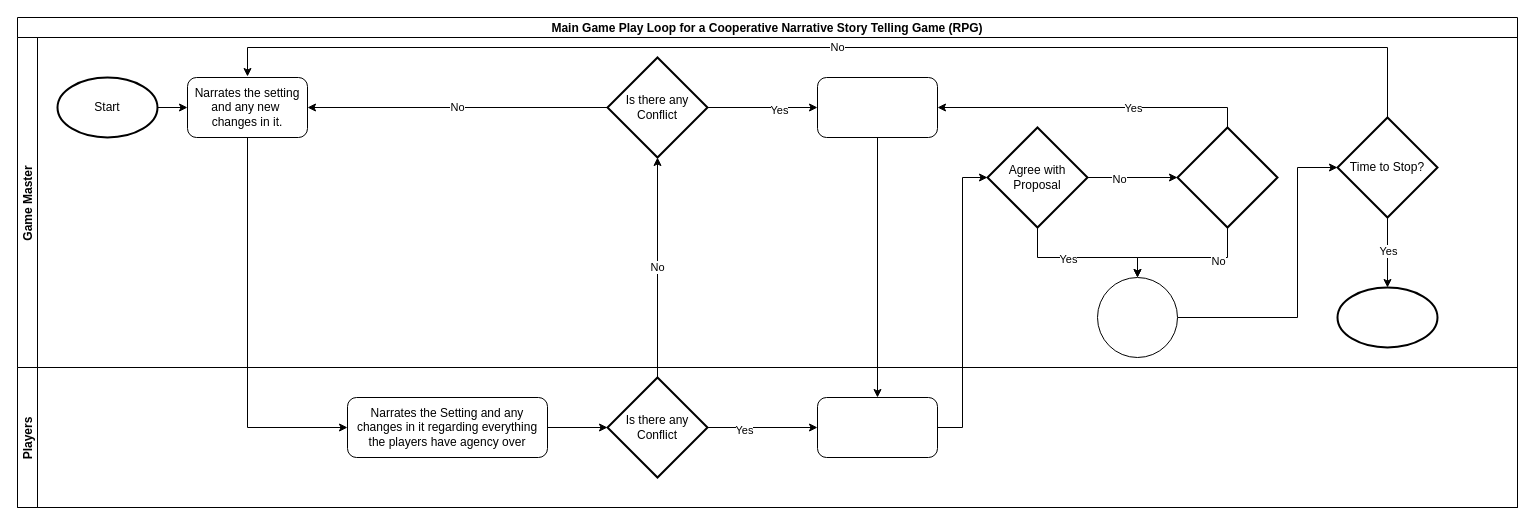
Image size: 1535x525. Some labels were removed from this diagram. The centre of each missing label's shape, as x and y in pixels:
Allow More Discussion: (1227,177)
Goto Proposed Resolution System: (1137,317)
Propose Resolution System for Conflict based on Character Agency: (877,427)
Proposes Resolution System for Conflict: (877,107)
Stop: (1387,317)
